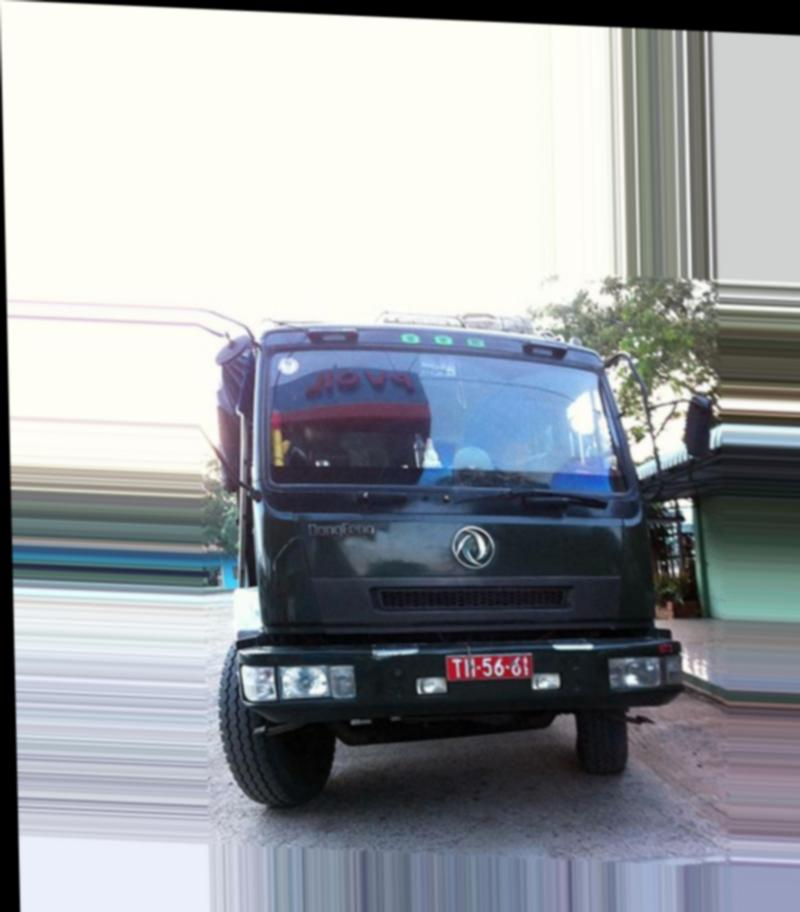License_Plate: (439, 645, 543, 689)
